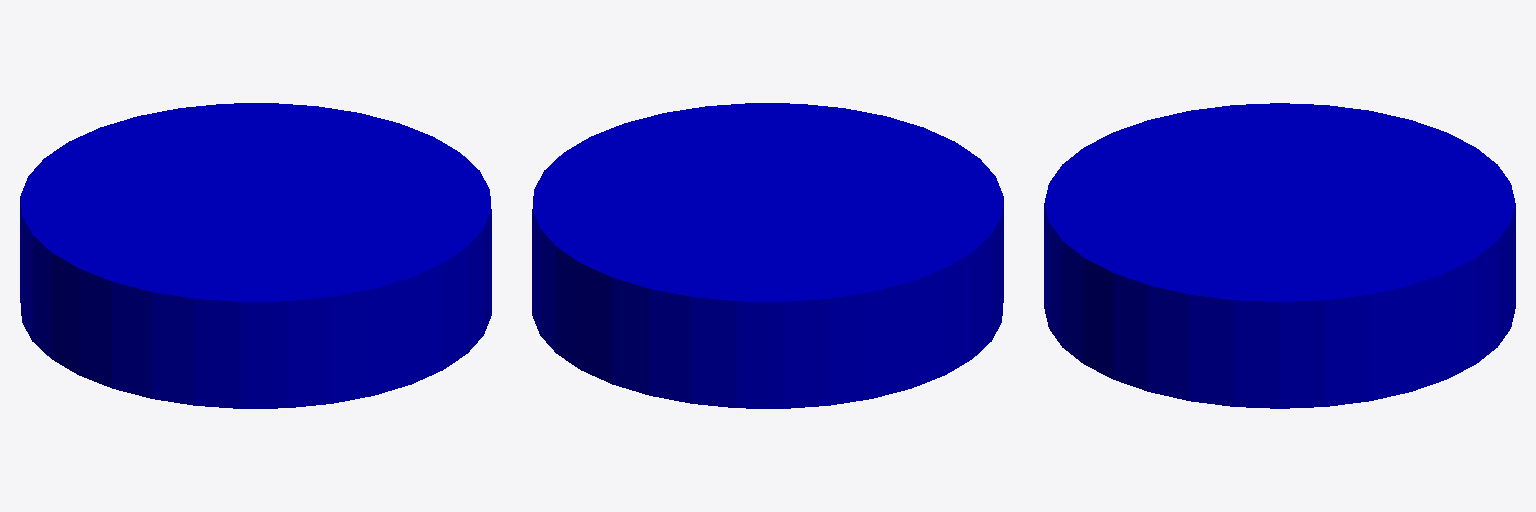
robot.urdf — tank1:
<?xml version="1.0"?>
<robot name="tank1">
  <link name="base_link">
    <visual>
      <geometry>
        <cylinder length="0.1" radius="0.2"/>
      </geometry>

      <material name="blue">
        <color rgba="0 0 .8 1"/>
      </material>

    </visual>
  </link>
</robot>

--- Facts derived from the render (not from the file) ---
3 views of the same robot in one strip: view 1: azimuth 30°, elevation 25°; view 2: azimuth 150°, elevation 25°; view 3: azimuth 270°, elevation 25° (orthographic).
Model tank1 with 1 links and 0 joints (none), rooted at base_link, posed every joint at zero.
Visible links, largest first — view 1: base_link; view 2: base_link; view 3: base_link.
Boxes of the visible links, left/top/right/bottom form: base_link: left=20, top=103, right=491, bottom=408; base_link: left=532, top=103, right=1003, bottom=408; base_link: left=1044, top=103, right=1515, bottom=408.
Size in the robot's own frame: 0.4 by 0.4 by 0.1 metres.
Geometry: primitives only (box / cylinder / sphere), no mesh files.